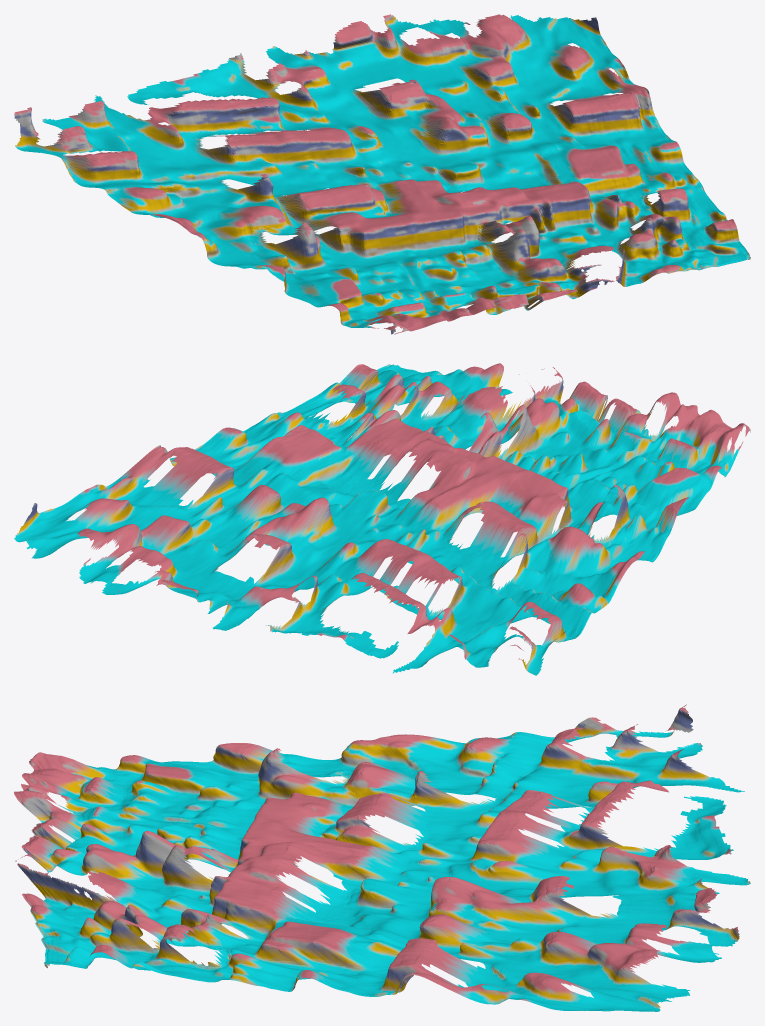
File: segmented.glb
3 views of the same model, one above another, from view 1: azimuth 30°, elevation 25°; view 2: azimuth 150°, elevation 25°; view 3: azimuth 270°, elevation 25° (orthographic). The views are drawn at different scales.
Parts seen in each view (by area): view 1: geometry_0; view 2: geometry_0; view 3: geometry_0.
Boxes of the visible parts, x1,y1,x2,y2 form: geometry_0: (14, 14, 750, 334); geometry_0: (14, 363, 750, 675); geometry_0: (14, 704, 750, 1011).
Size of the model in its own units: 13.52 by 1.02 by 14.75.
